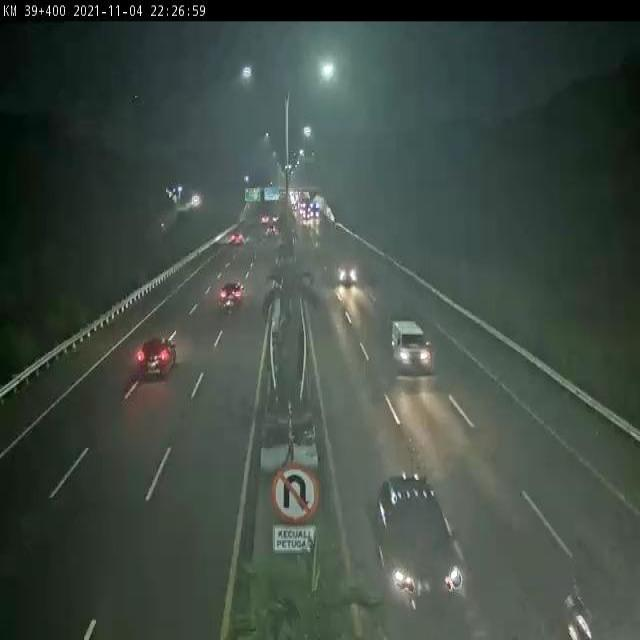car: (376, 473, 462, 619), (392, 317, 434, 376), (135, 340, 176, 377), (218, 282, 242, 310)
